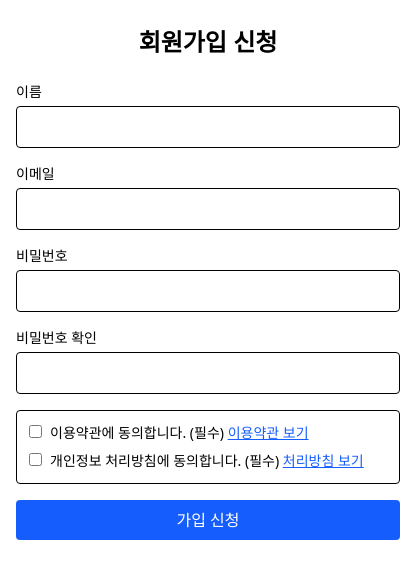
Scenario: RegisterPage › 이용약관 미동의 시 오류 메시지를 표시한다
In the field labelled "이름": {"x": 208, "y": 127} [16, 106, 400, 148], type "홍길동"
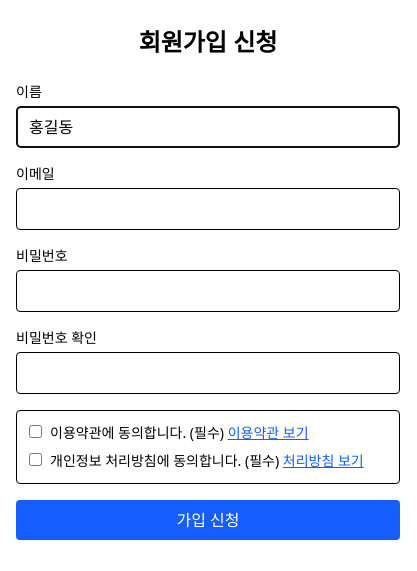
In the field labelled "이메일": {"x": 208, "y": 209} [16, 188, 400, 230], type "test@example.com"
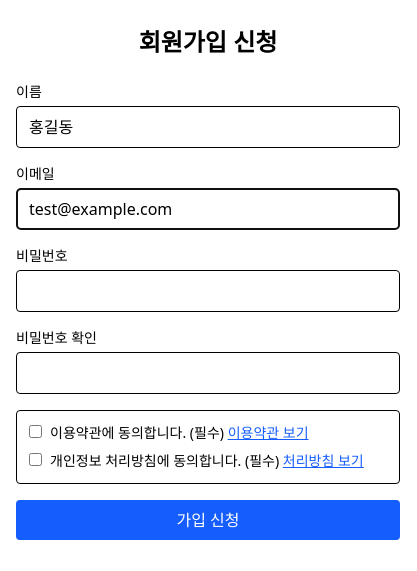
In the password field labelled "비밀번호": {"x": 208, "y": 291} [16, 270, 400, 312], type "Password1!"
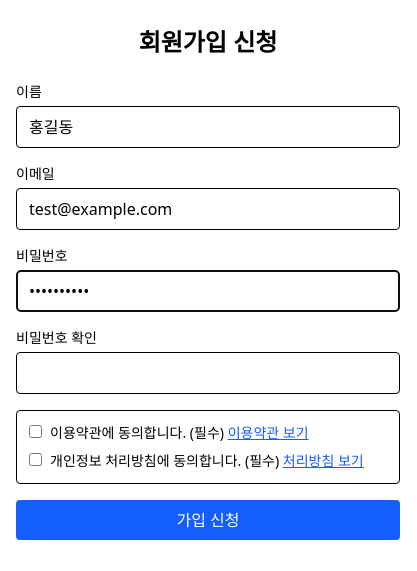
In the password field labelled "비밀번호 확인": {"x": 208, "y": 373} [16, 352, 400, 394], type "Password1!"
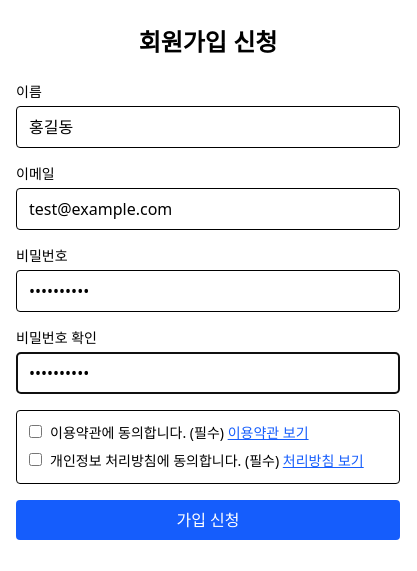
Click the checkbox labelled "개인정보 처리방침에 동의합니다. (필수) 처리방침 보기": {"x": 36, "y": 460} [29, 453, 42, 466]
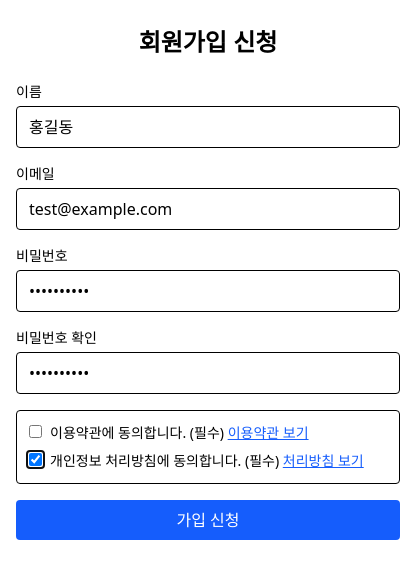
Click the button "가입 신청": {"x": 208, "y": 520} [16, 500, 400, 540]
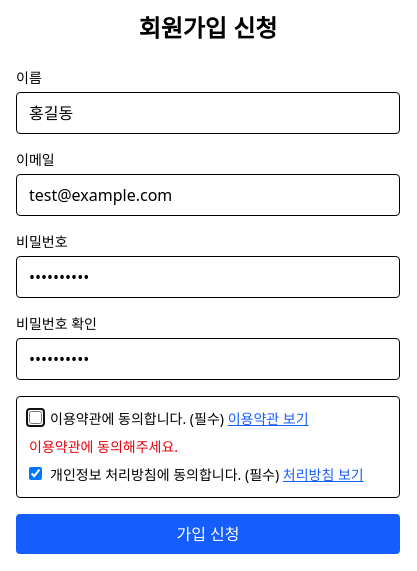
Check: the text "이용약관에 동의해주세요." is shown, box [29, 437, 178, 456]
